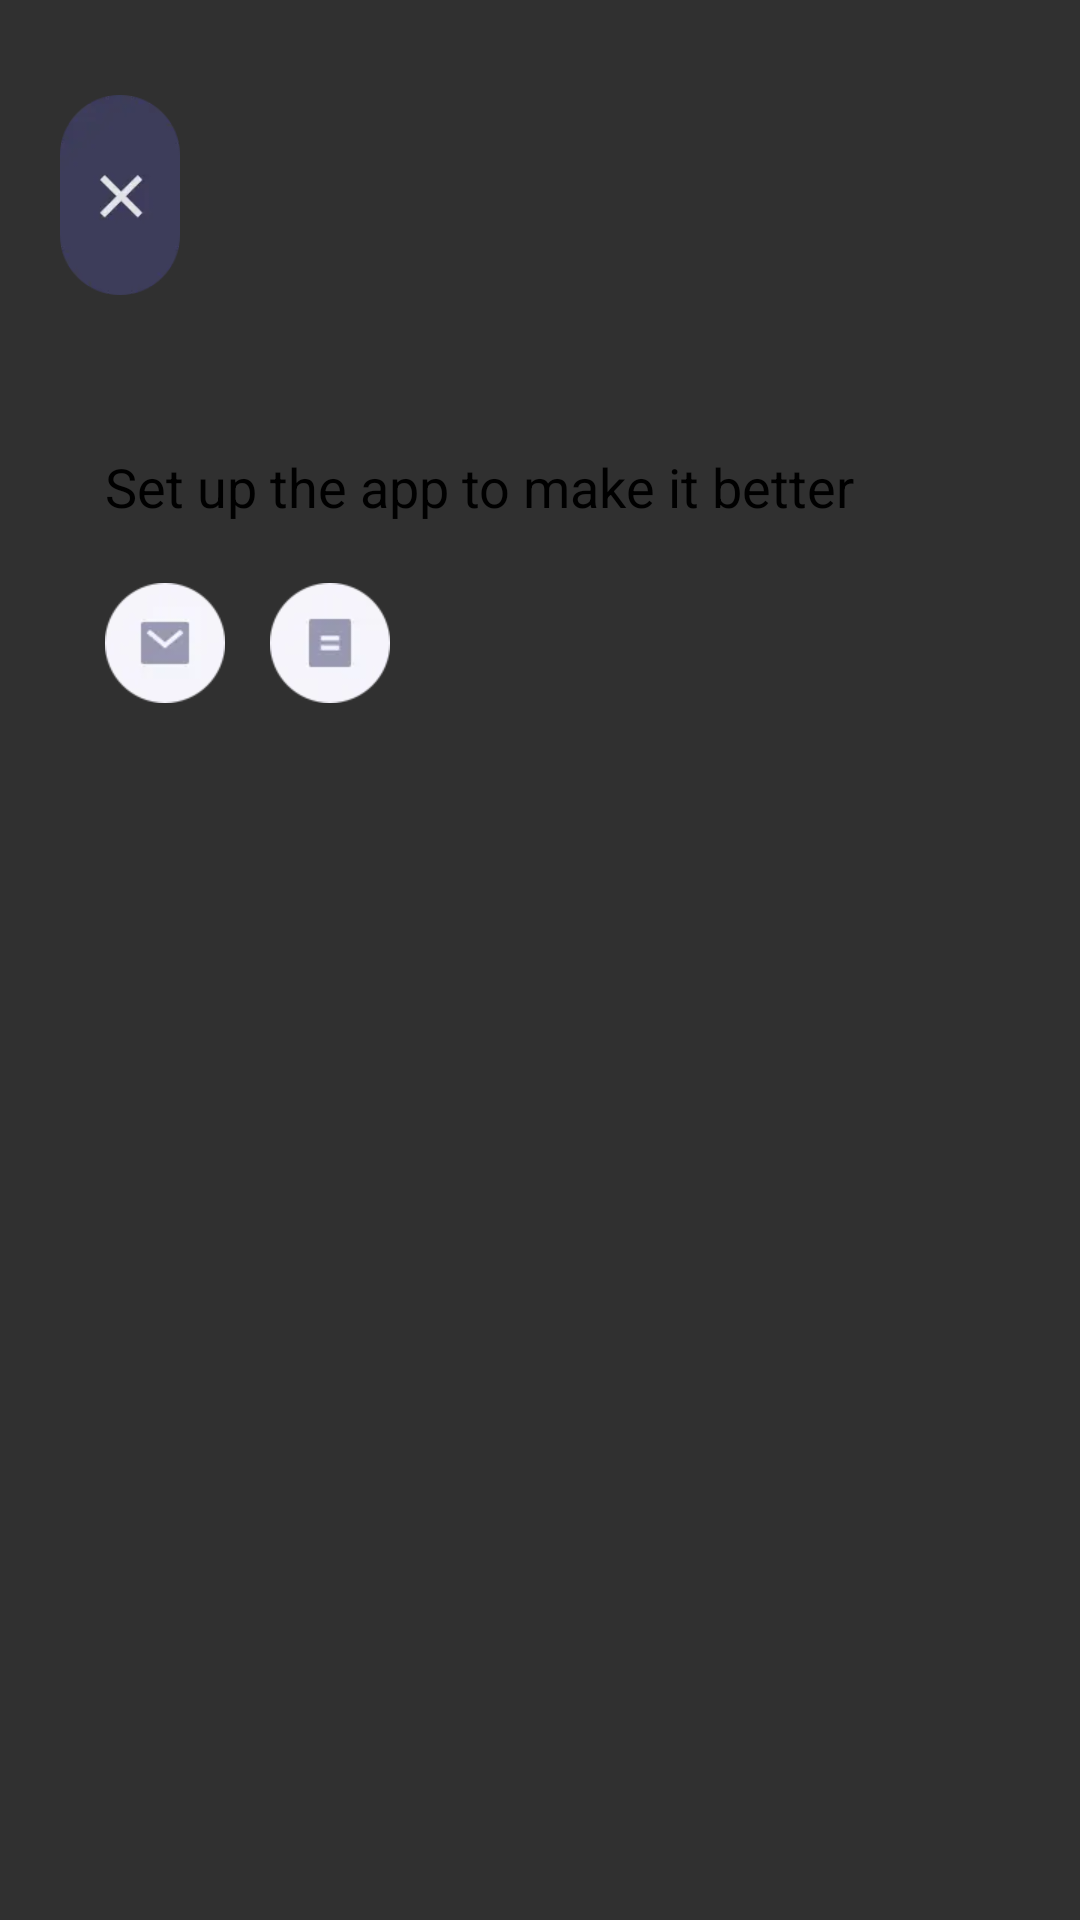

Point at icon controls on the screen. Image size 1080w x 1920h, points as [x,y].
setting cancel: [120,195]
setting feedback: [165,643]
setting privicy: [330,643]
